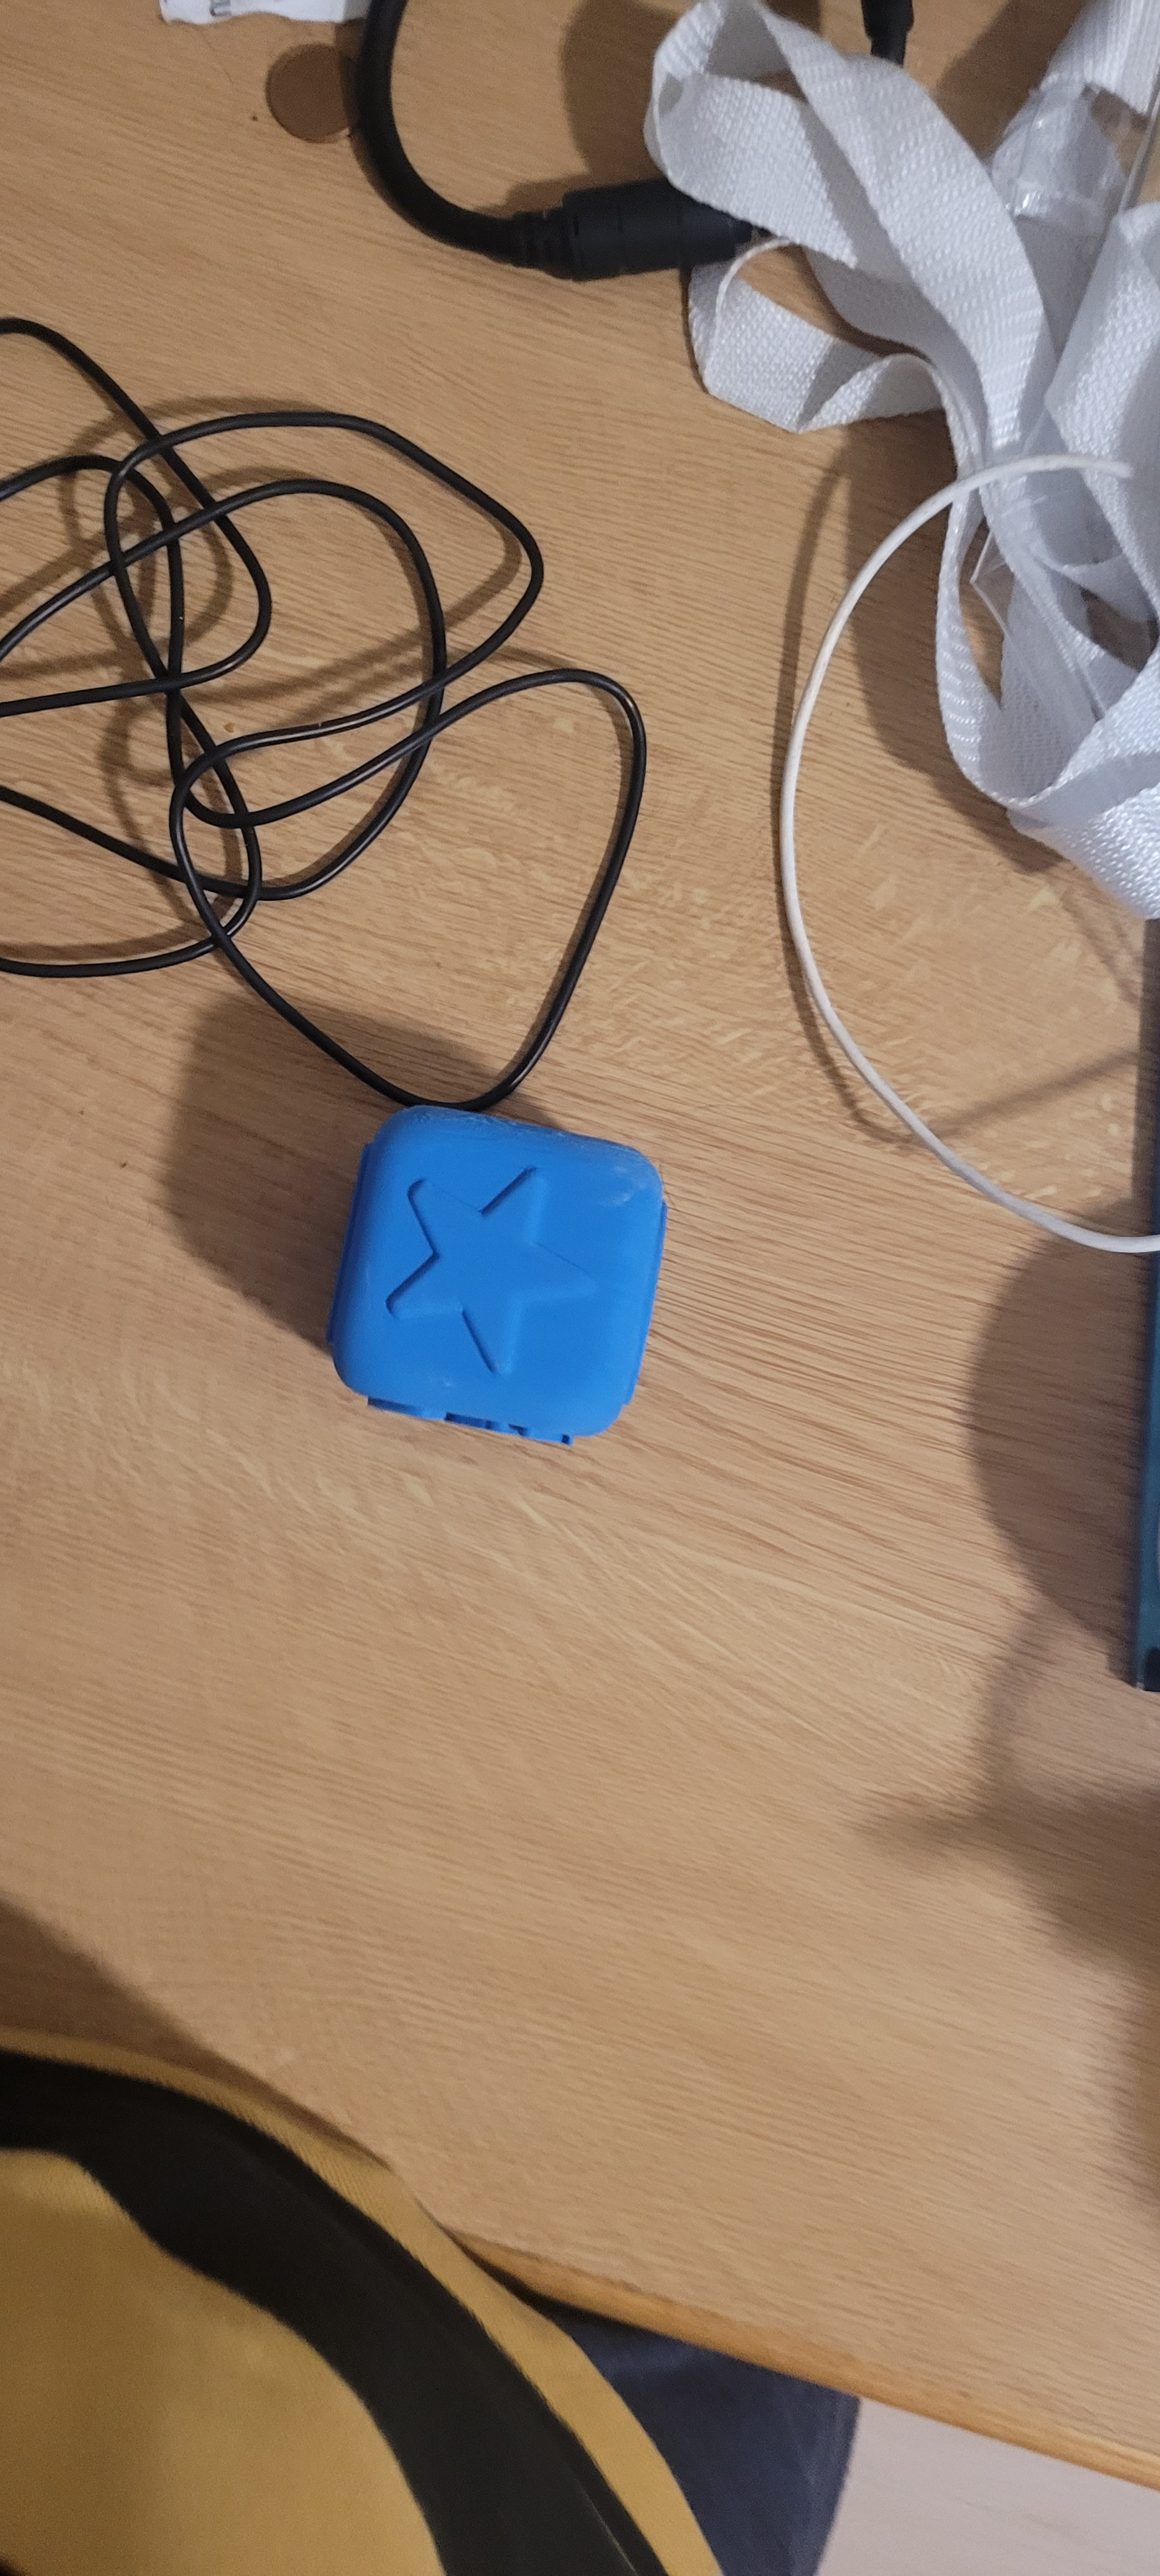Star: (327, 1115, 682, 1424)
